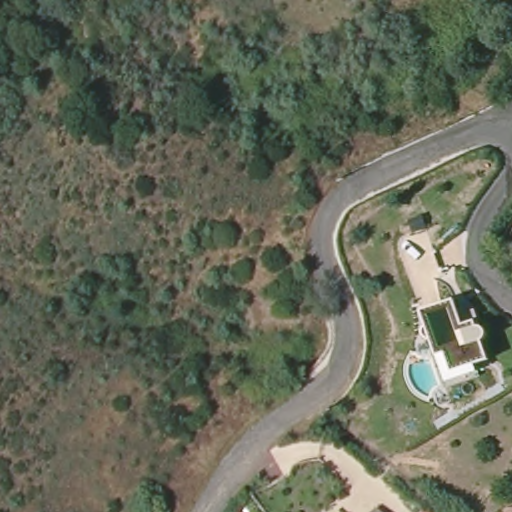pool: (407, 352, 445, 401)
